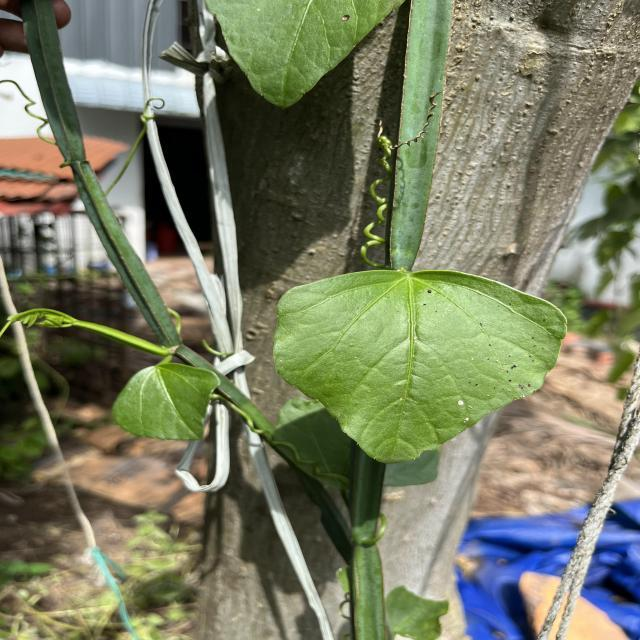Cissus quadrangularis: (269, 266, 571, 466)
